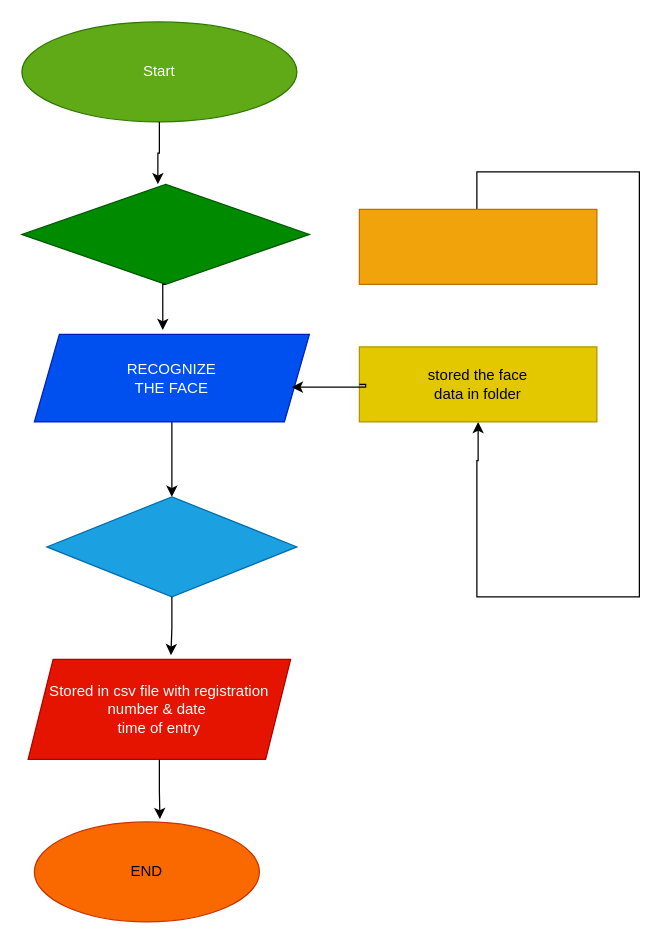
This 671x944 diagram has some shape labels left out. Here are the shapes that lost their labels. From the top down, the box of each, then its label:
(21, 183, 309, 284): NEW USER?
(358, 208, 597, 284): Give your photograph
(46, 496, 297, 597): FACE RECOGNIZED
